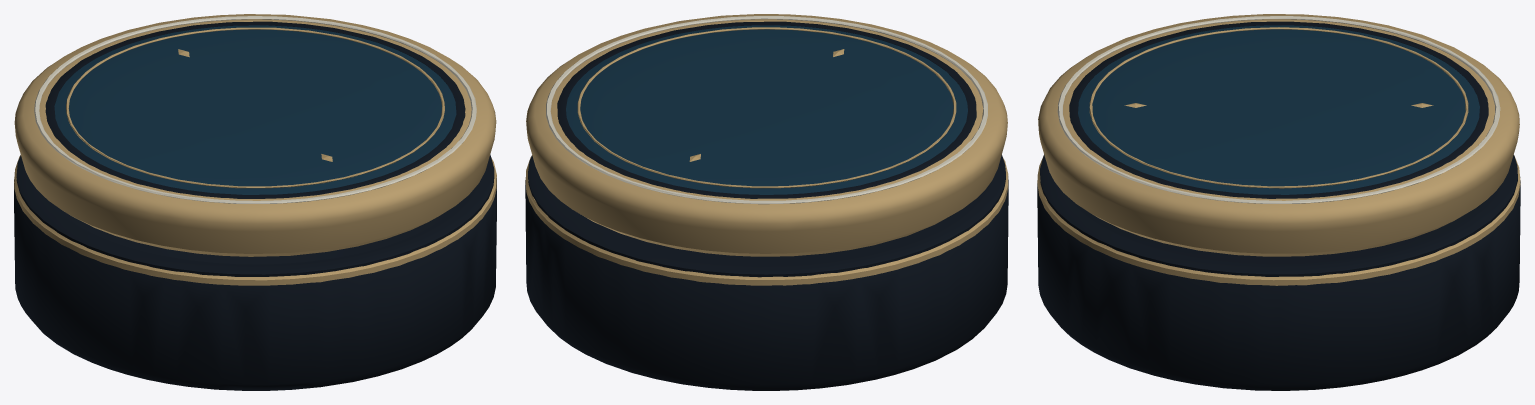
Rendered from turn-button-lod1.glb.
3 renders of one model, left to right at view 1: azimuth 30°, elevation 25°; view 2: azimuth 150°, elevation 25°; view 3: azimuth 270°, elevation 25°, orthographic.
Visible parts, largest first — view 1: Base Dark graphite mechanism, Cap Turn enamel - runtime state, Cap Champagne satin brass, Cap Dark graphite mechanism, Base Champagne satin brass, Cap Warm silver highlight; view 2: Base Dark graphite mechanism, Cap Turn enamel - runtime state, Cap Champagne satin brass, Cap Dark graphite mechanism, Base Champagne satin brass, Cap Warm silver highlight; view 3: Base Dark graphite mechanism, Cap Turn enamel - runtime state, Cap Champagne satin brass, Cap Dark graphite mechanism, Base Champagne satin brass, Cap Warm silver highlight.
Boxes of the visible parts, x1,y1,x2,y2 form: Base Dark graphite mechanism: [14, 154, 496, 390]; Cap Turn enamel - runtime state: [54, 25, 456, 194]; Cap Champagne satin brass: [14, 14, 496, 256]; Cap Dark graphite mechanism: [45, 21, 465, 198]; Base Champagne satin brass: [14, 155, 496, 285]; Cap Warm silver highlight: [34, 16, 476, 203]; Base Dark graphite mechanism: [525, 155, 1008, 390]; Cap Turn enamel - runtime state: [566, 25, 967, 194]; Cap Champagne satin brass: [526, 14, 1007, 256]; Cap Dark graphite mechanism: [557, 21, 976, 198]; Base Champagne satin brass: [525, 155, 1008, 285]; Cap Warm silver highlight: [546, 16, 987, 204]; Base Dark graphite mechanism: [1037, 154, 1520, 390]; Cap Turn enamel - runtime state: [1078, 25, 1479, 194]; Cap Champagne satin brass: [1038, 14, 1519, 256]; Cap Dark graphite mechanism: [1069, 21, 1488, 198]; Base Champagne satin brass: [1037, 155, 1520, 285]; Cap Warm silver highlight: [1057, 16, 1500, 203].
Size of the model in its own units: 0.0928 by 0.0399 by 0.0928.
